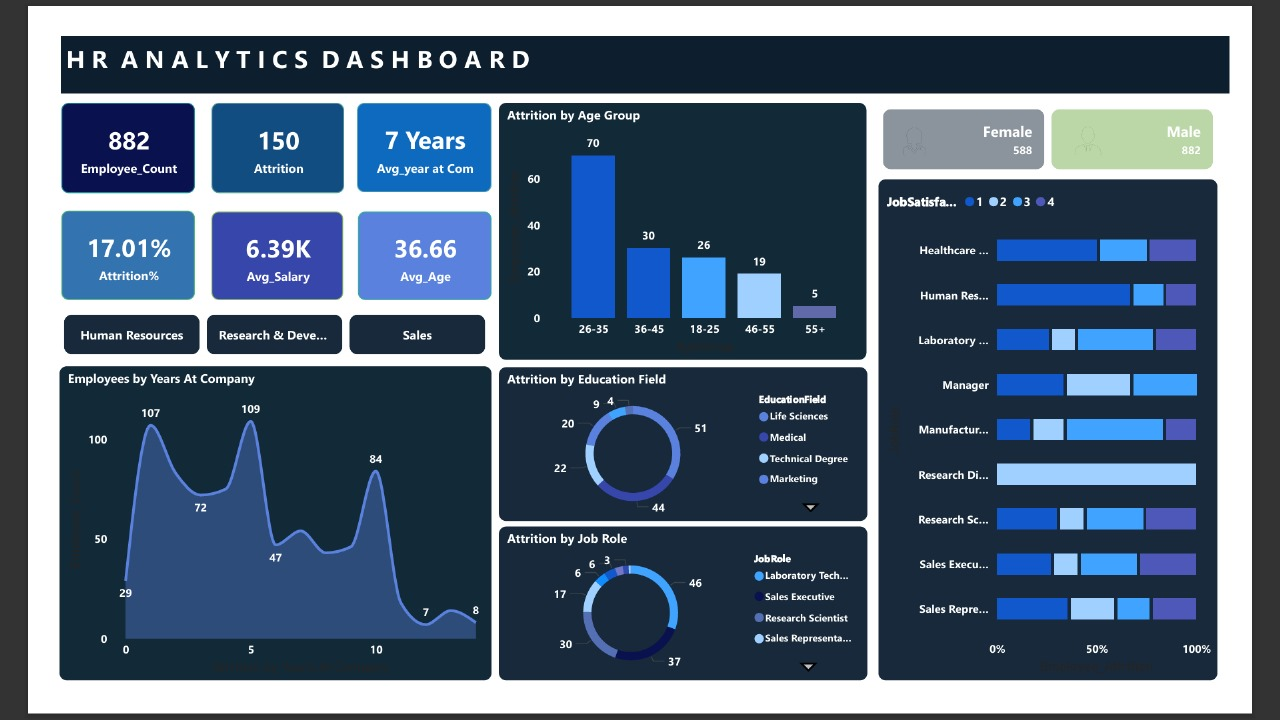

Layout of this report page (visuals, bound fields, positions):
{"tool":"powerbi","page":{"name":"Page 1","canvas":[1280,720],"ordinal":0},"visuals":[{"type":"image","box":[1106.4,97.5,40.8,50.1],"z":0},{"type":"image","box":[918,101.2,39.9,42.7],"z":1000},{"type":"card","fields":{"Values":["New Measures.Employee_Attrition"]},"box":[174.6,80.8,144.7,97.8],"z":2000},{"type":"card","fields":{"Values":["New Measures.Employee_Count"]},"box":[12,80.8,144.7,97.8],"z":3000},{"type":"card","fields":{"Values":["New Measures.Years_With_Text"]},"box":[333.2,80.8,145.7,97.5],"z":4000},{"type":"card","fields":{"Values":["New Measures.Attrition%"]},"box":[12,197.5,144.7,97.8],"z":5000},{"type":"card","fields":{"Values":["New Measures.Avg_Salary"]},"box":[174.6,198.5,143.7,96.8],"z":6000},{"type":"card","fields":{"Values":["New Measures.Avg_Age"]},"box":[334.2,198.5,144.7,96.8],"z":7000},{"type":"areaChart","title":"Employees by Years At Company","fields":{"Y":["New Measures.Employee_Count"],"Category":["HR_Analytics.YearsAtCompany"]},"box":[9.9,367.2,469.3,341.2],"z":8000},{"type":"donutChart","title":"Attrition by Education Field","fields":{"Y":["New Measures.Employee_Attrition"],"Category":["HR_Analytics.EducationField"]},"box":[487.3,367.6,400.1,167.1],"z":9000},{"type":"clusteredColumnChart","title":"Attrition by Age Group","fields":{"Category":["HR_Analytics.AgeGroup"],"Y":["New Measures.Employee_Attrition"]},"box":[487.3,80.8,399.1,279.4],"z":10000},{"type":"hundredPercentStackedBarChart","fields":{"Y":["New Measures.Employee_Attrition"],"Series":["HR_Analytics.JobSatisfaction"],"Category":["HR_Analytics.JobRole"]},"box":[898.5,164.3,368.5,543.9],"z":11000},{"type":"advancedSlicerVisual","fields":{"Values":["HR_Analytics.Gender"]},"box":[898.5,82.6,368.5,75.2],"z":12000},{"type":"advancedSlicerVisual","fields":{"Values":["HR_Analytics.Department"]},"box":[9.9,306.3,469.3,53.7],"z":13000},{"type":"textbox","box":[12.1,9.3,527.2,61.3],"z":14000},{"type":"donutChart","title":"Attrition by Job Role","fields":{"Y":["New Measures.Employee_Attrition"],"Category":["HR_Analytics.JobRole"]},"box":[487.3,541.1,400.1,167.1],"z":15000}]}

Visuals, with their boxes in screenshot pixels (x1, y1, x2, y2), scaled from the page's 1280x720 canvas onto the 1280x720 screenshot:
image: left=1106, top=98, right=1147, bottom=148
image: left=918, top=101, right=958, bottom=144
card - New Measures.Employee_Attrition: left=175, top=81, right=319, bottom=179
card - New Measures.Employee_Count: left=12, top=81, right=157, bottom=179
card - New Measures.Years_With_Text: left=333, top=81, right=479, bottom=178
card - New Measures.Attrition%: left=12, top=198, right=157, bottom=295
card - New Measures.Avg_Salary: left=175, top=198, right=318, bottom=295
card - New Measures.Avg_Age: left=334, top=198, right=479, bottom=295
"Employees by Years At Company" areaChart: left=10, top=367, right=479, bottom=708
"Attrition by Education Field" donutChart: left=487, top=368, right=887, bottom=535
"Attrition by Age Group" clusteredColumnChart: left=487, top=81, right=886, bottom=360
hundredPercentStackedBarChart - New Measures.Employee_Attrition x HR_Analytics.JobSatisfaction: left=898, top=164, right=1267, bottom=708
advancedSlicerVisual - HR_Analytics.Gender: left=898, top=83, right=1267, bottom=158
advancedSlicerVisual - HR_Analytics.Department: left=10, top=306, right=479, bottom=360
textbox: left=12, top=9, right=539, bottom=71
"Attrition by Job Role" donutChart: left=487, top=541, right=887, bottom=708
